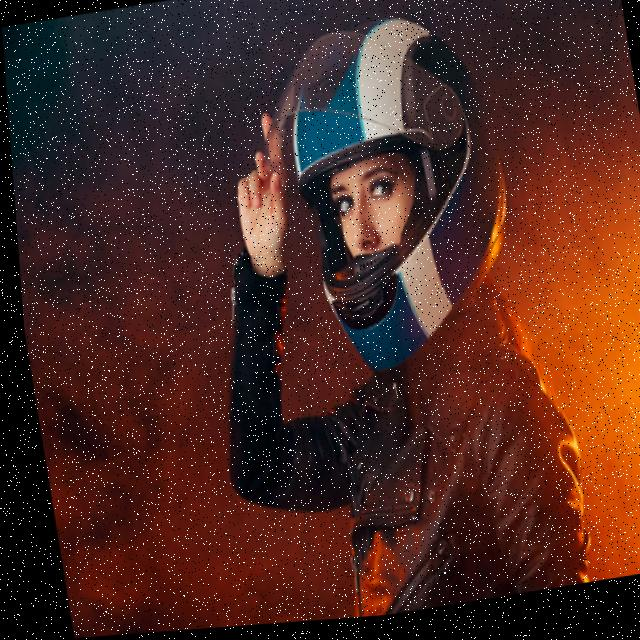helmet: (233, 0, 541, 408)
